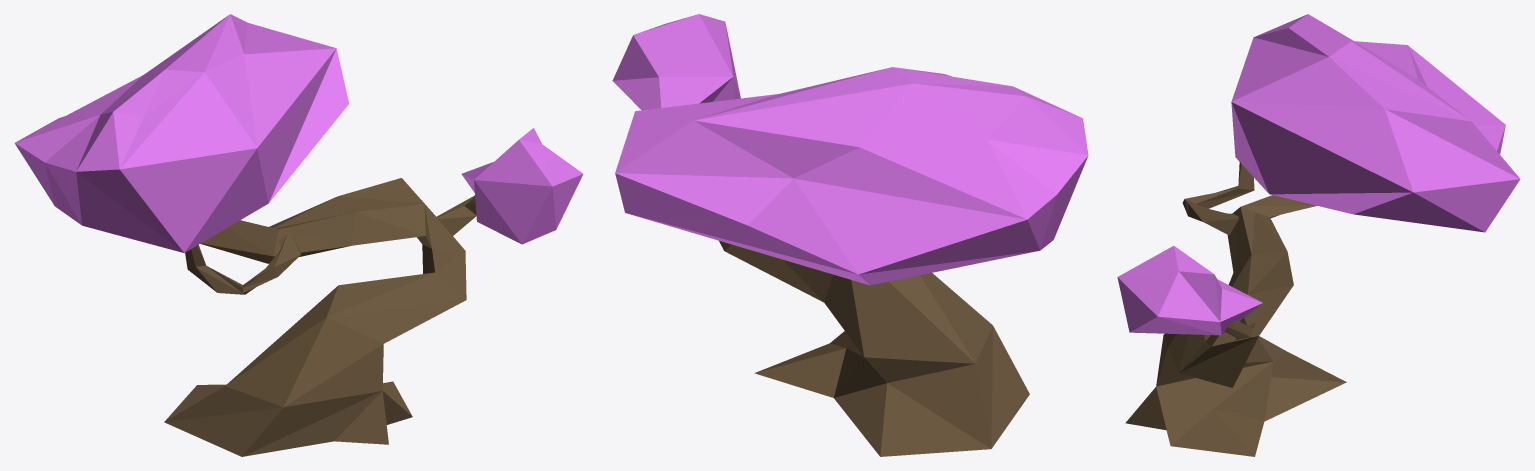
The model's file is Cerisier.FBX.
3 renders of one model, left to right at view 1: azimuth 30°, elevation 25°; view 2: azimuth 150°, elevation 25°; view 3: azimuth 270°, elevation 25°, orthographic. The views are drawn at different scales.
Parts seen in each view (by area): view 1: Box001; view 2: Box001; view 3: Box001.
Boxes of the visible parts, x1,y1,x2,y2 form: Box001: (14,14,583,456); Box001: (612,14,1088,456); Box001: (1117,14,1520,456).
Size of the model in its own units: 4.36 by 3 by 3.36.
